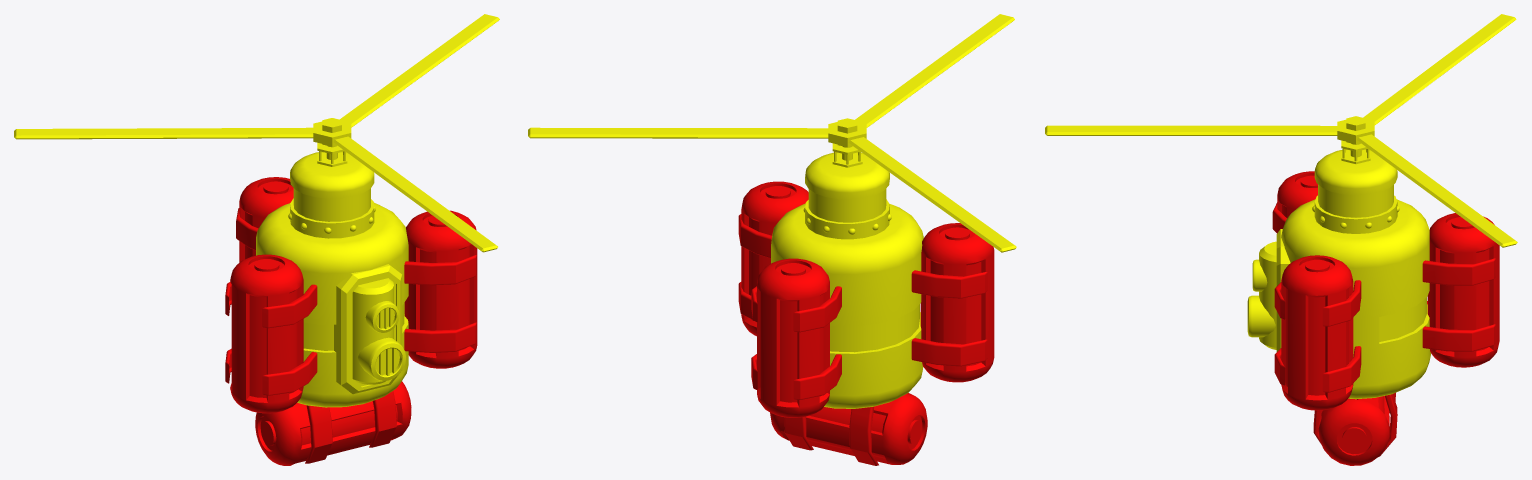
The model's file is SM_Suicide_Drone.fbx.
3 views of the same model, side by side, from view 1: azimuth 30°, elevation 25°; view 2: azimuth 150°, elevation 25°; view 3: azimuth 270°, elevation 25° (orthographic). The views are drawn at different scales.
Visible parts, largest first — view 1: pCube34 (×2), pCube35; view 2: pCube34 (×2), pCube35; view 3: pCube34 (×2), pCube35.
Boxes of the visible parts, box(x1,y1,x2,y2) form: pCube34 (×2): box(225, 151, 477, 465); pCube35: box(14, 14, 499, 252); pCube34 (×2): box(738, 152, 994, 465); pCube35: box(528, 14, 1016, 252); pCube34 (×2): box(1247, 149, 1499, 465); pCube35: box(1045, 14, 1517, 247).
Size of the model in its own units: 168 by 108 by 145.
